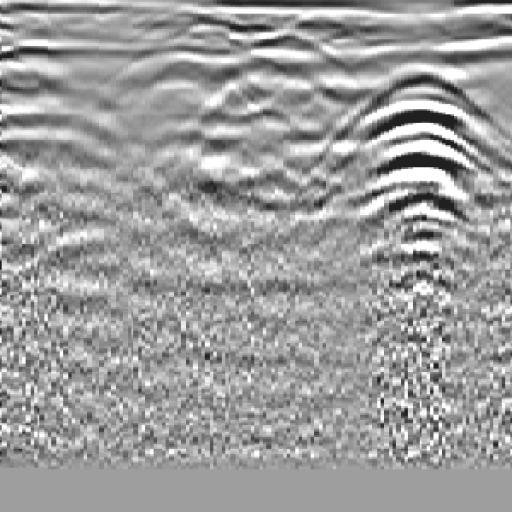metalic: (317, 38, 512, 399)
